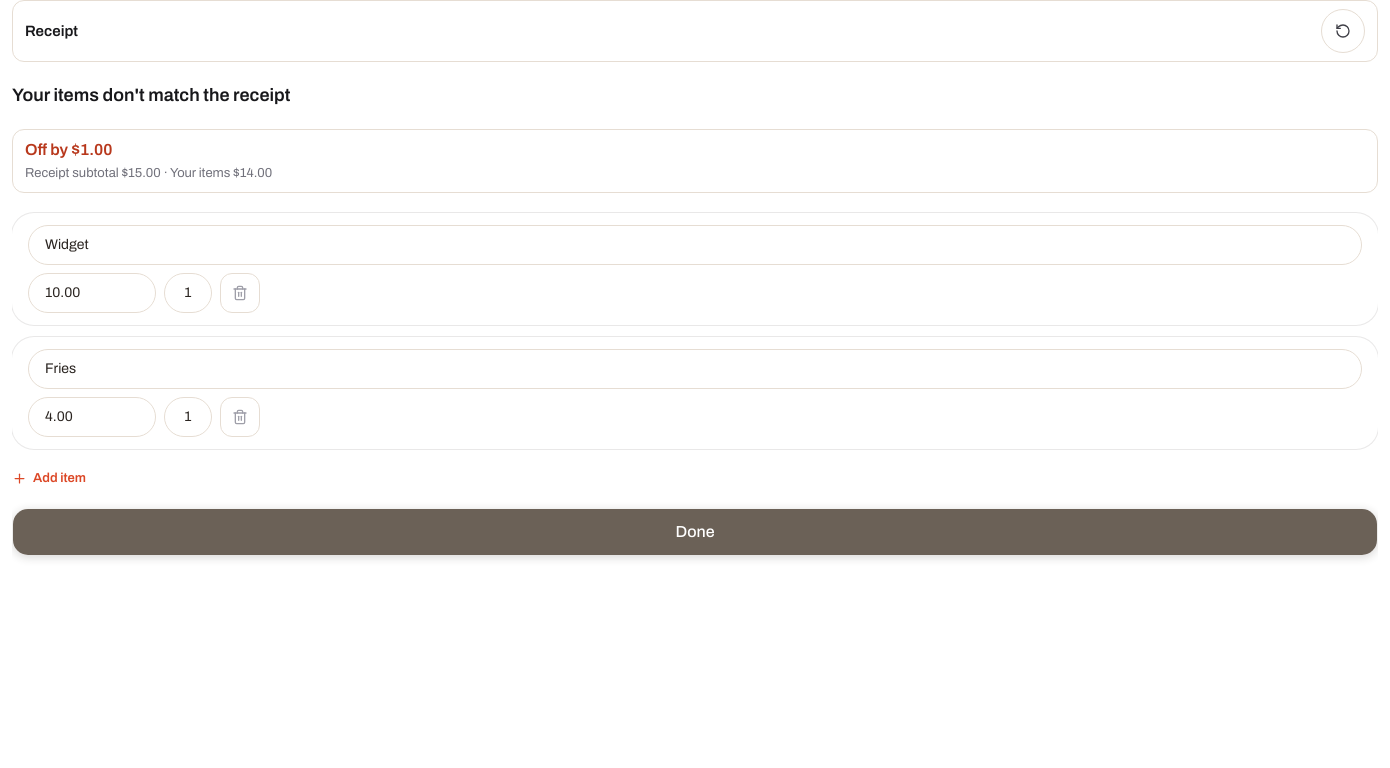
ScanItemsEditor › editing a price updates the store, summary and heading
Replace the text in the 1st field named "Price" with "11.00" at (92, 292), box top-left (28, 272), bottom-right (156, 312)
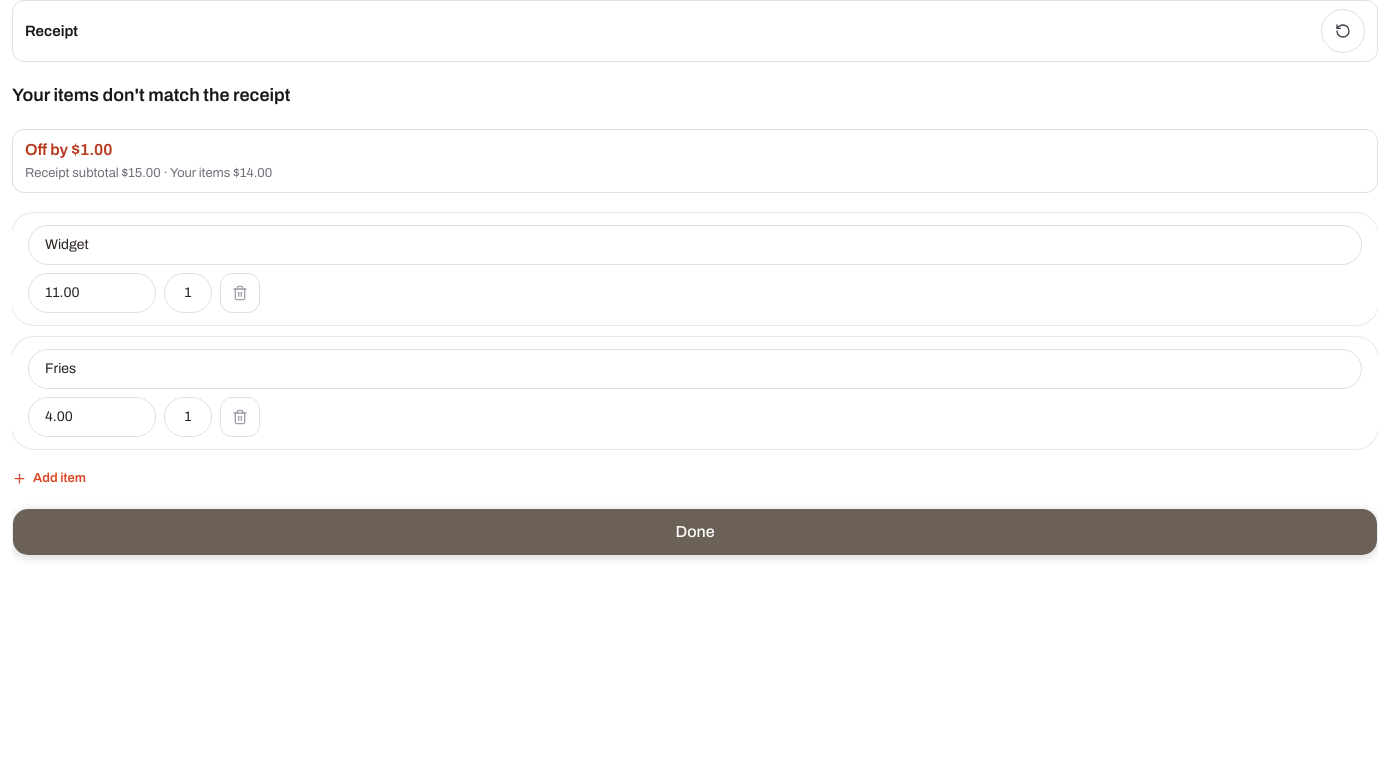
Leave the 1st field named "Price", box top-left (28, 272), bottom-right (156, 312)
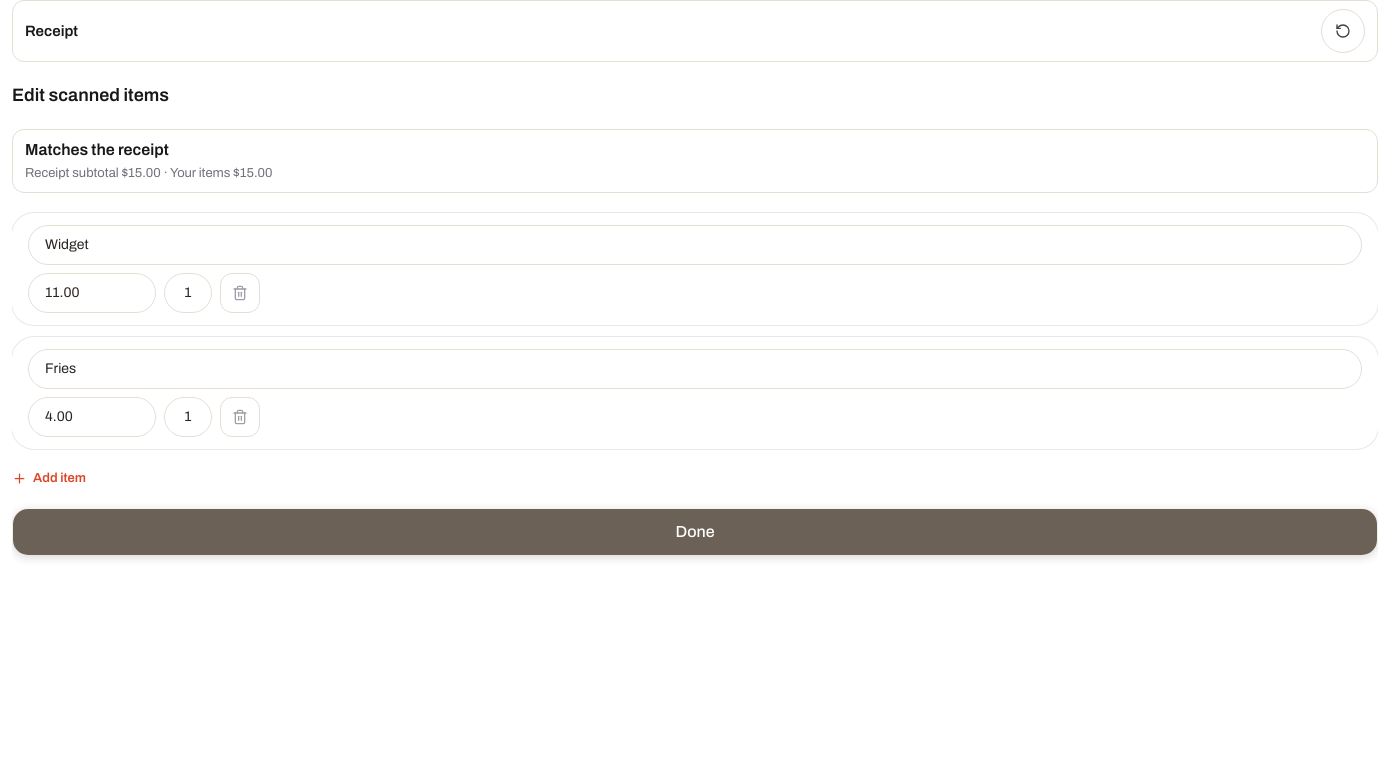
Check: the element with test id "scan-review-gap" shows "Matches the receipt", box top-left (25, 141), bottom-right (169, 158)
Check: the text with test id "scan-review-gap" no longer shows "Off by"
Check: the heading reads "Edit scanned items", box top-left (12, 85), bottom-right (169, 105)
